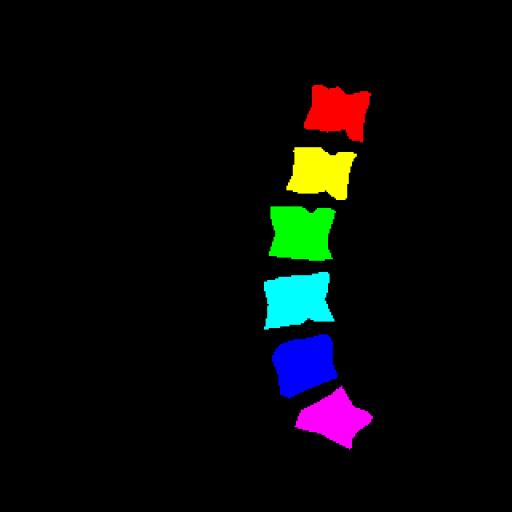L1: (304, 85, 371, 142)
L2: (287, 147, 357, 200)
L3: (269, 206, 335, 260)
L4: (264, 274, 332, 330)
L5: (272, 335, 337, 398)
S1: (295, 386, 373, 448)
